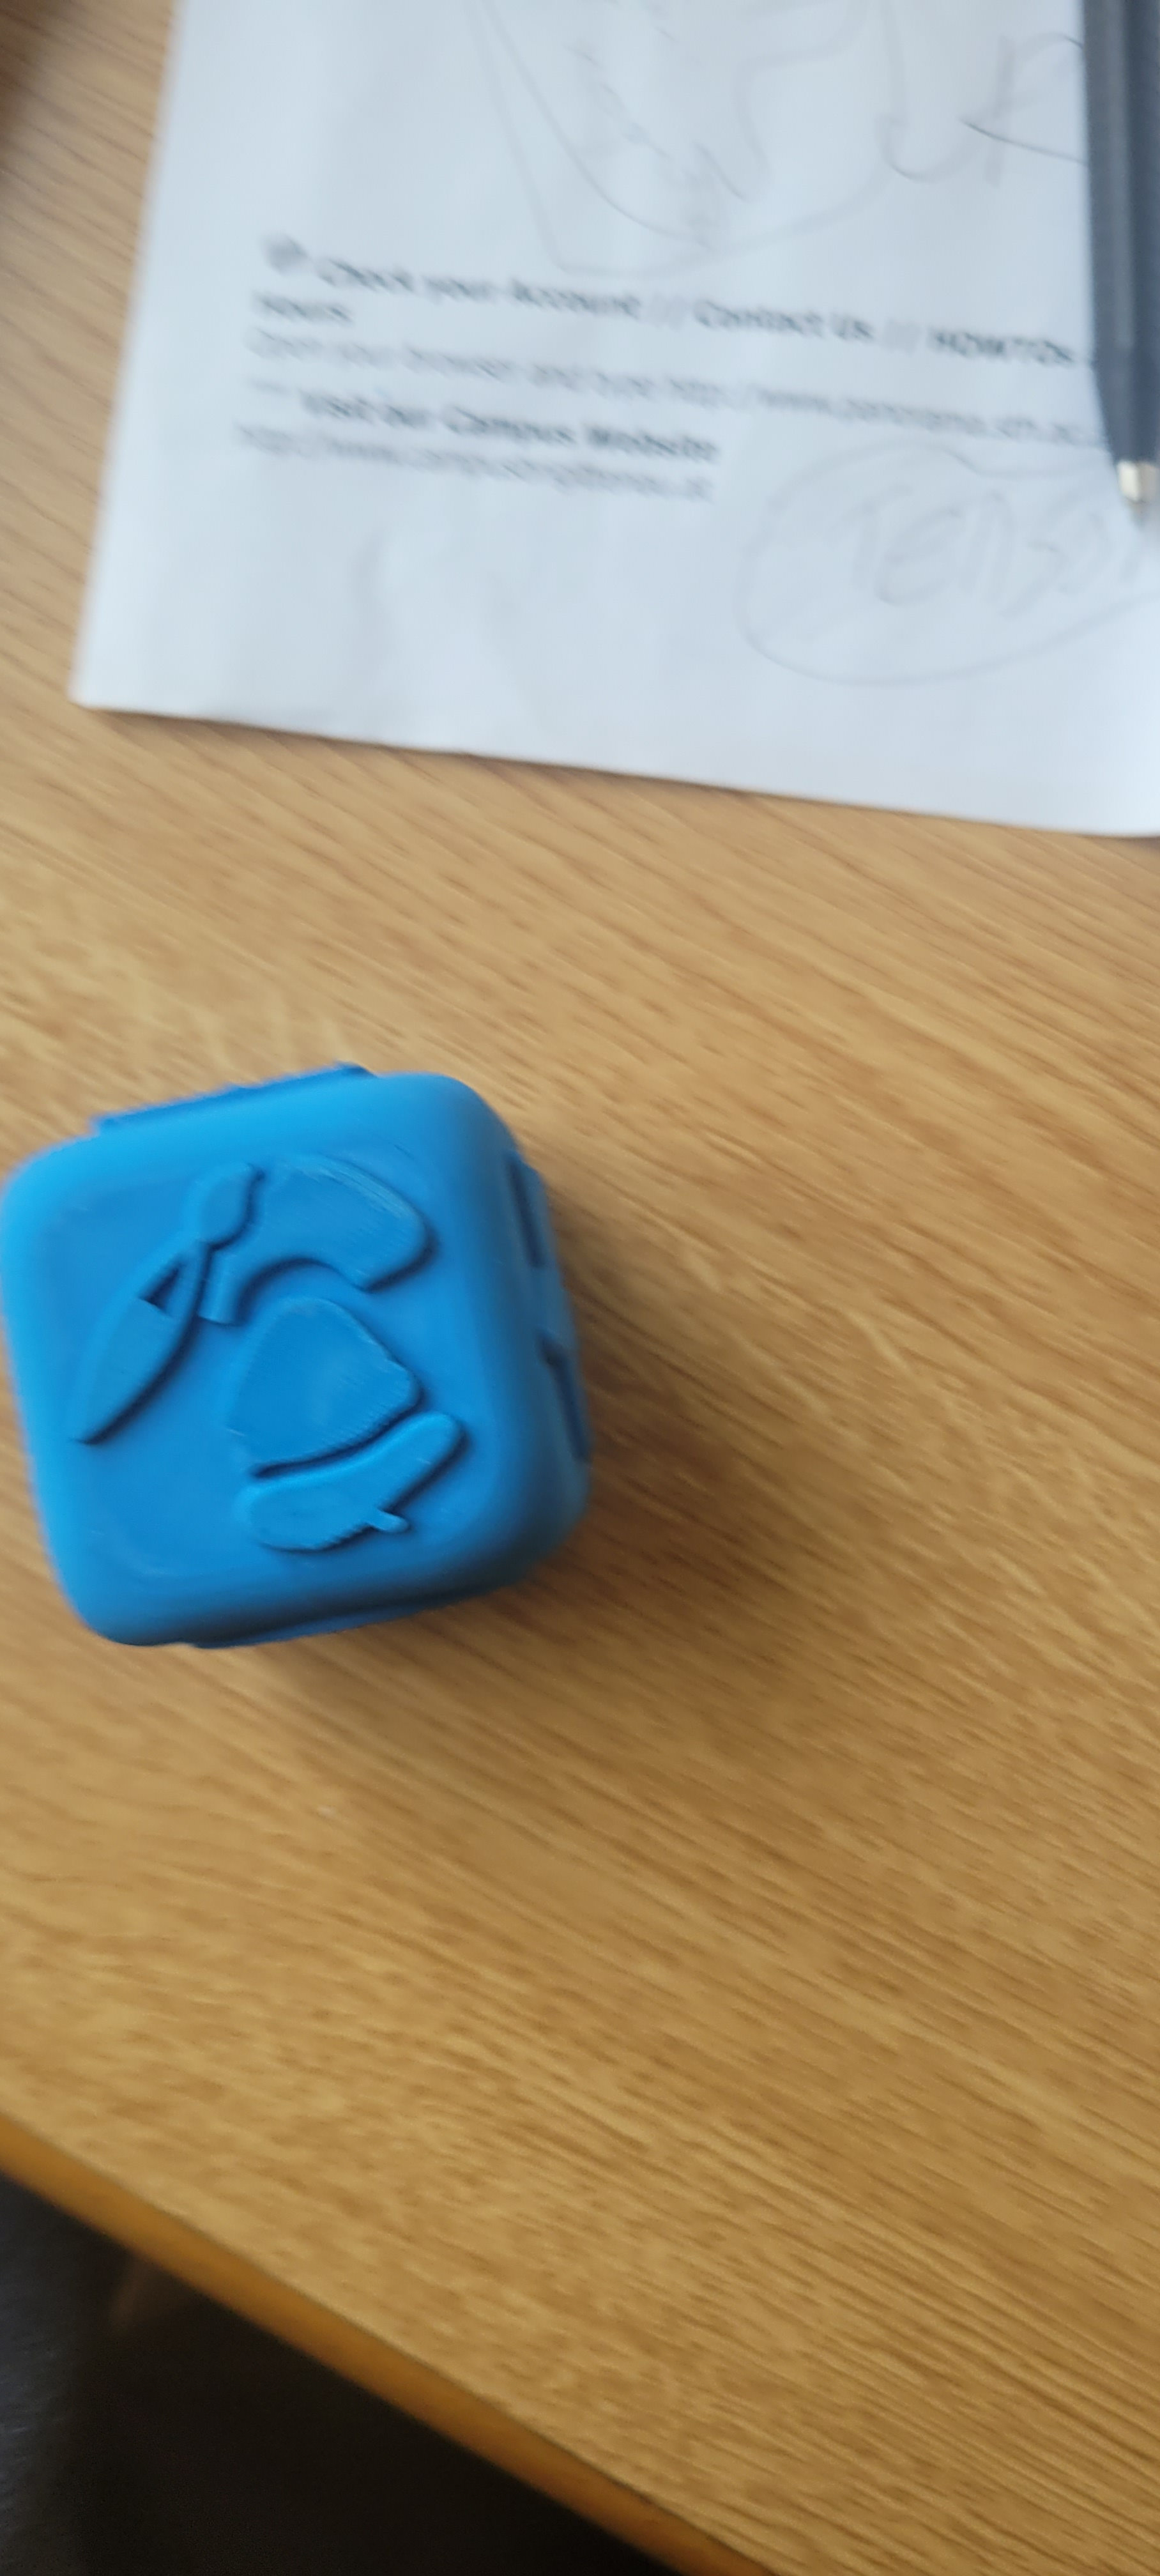Artist_Info: (0, 1102, 591, 1607)
